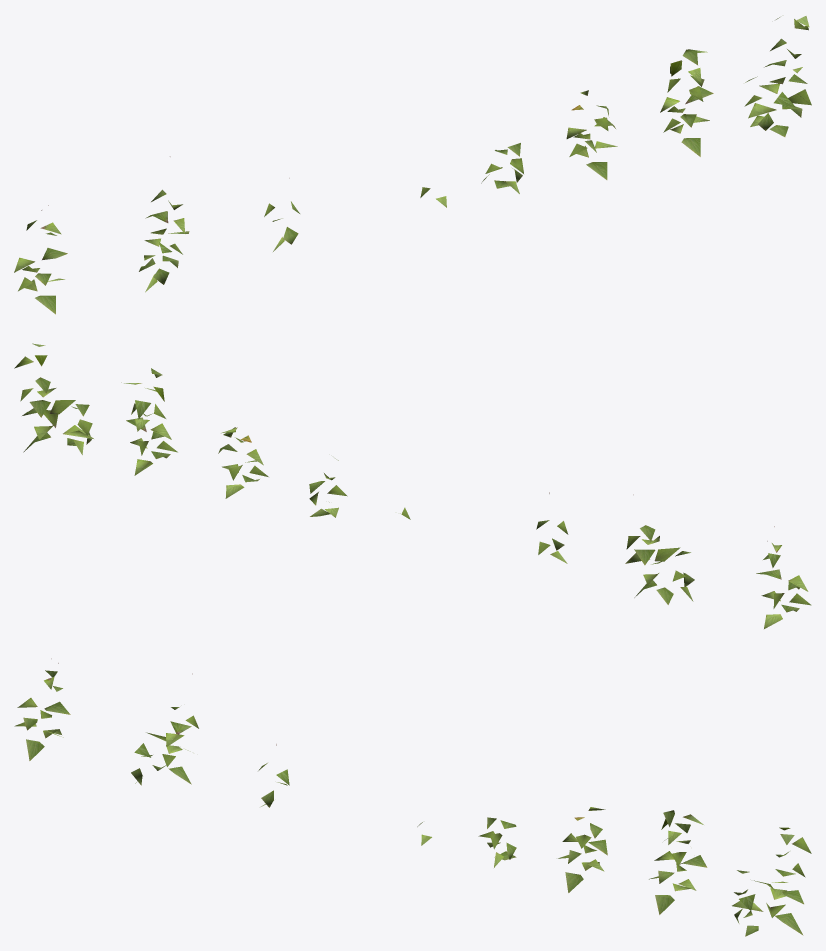
The model's file is shrub-lod.glb.
3 views of the same model, one above another, from view 1: azimuth 30°, elevation 25°; view 2: azimuth 150°, elevation 25°; view 3: azimuth 330°, elevation 25° (orthographic). The views are drawn at different scales.
Parts seen in each view (by area): view 1: shrub_01_a; view 2: shrub_01_a; view 3: shrub_01_a.
Part boxes in pixels (x1=…): shrub_01_a: x1=14, y1=16, x2=811, y2=314; shrub_01_a: x1=14, y1=343, x2=811, y2=628; shrub_01_a: x1=14, y1=658, x2=811, y2=936.
Size of the model in its own units: 2.59 by 0.3491 by 0.2055.
1 material, 1 textured.
